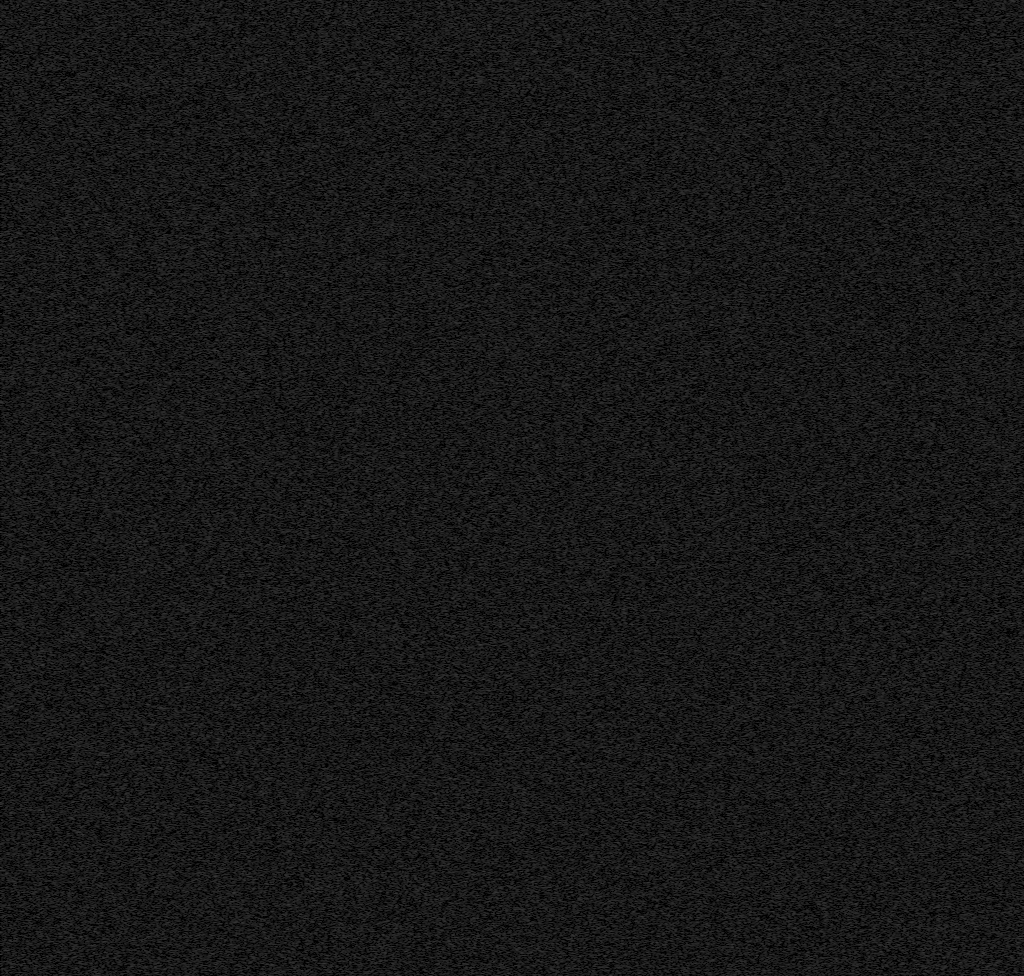wv_am: (550, 0, 565, 596), (132, 0, 139, 976), (555, 646, 561, 976), (555, 620, 561, 645), (555, 598, 561, 619)
wv_cw: (734, 0, 756, 976), (99, 0, 118, 976), (677, 0, 696, 976), (903, 0, 913, 976)
wv_lsb: (674, 567, 680, 726), (674, 191, 679, 374), (674, 6, 679, 97), (674, 915, 679, 976), (674, 378, 679, 421), (675, 466, 679, 518), (675, 727, 679, 768), (675, 769, 679, 781), (675, 447, 679, 459), (675, 151, 679, 162), (675, 541, 679, 551), (675, 519, 679, 529), (675, 436, 679, 446), (676, 792, 679, 803), (675, 532, 679, 540), (675, 142, 679, 150), (675, 826, 679, 833), (675, 427, 679, 434), (675, 182, 679, 189), (675, 838, 679, 843), (675, 782, 679, 787), (675, 559, 679, 564), (675, 553, 679, 558), (675, 460, 679, 465), (675, 167, 679, 172), (675, 846, 679, 850), (675, 422, 679, 426), (676, 863, 679, 868), (676, 173, 679, 178), (675, 820, 679, 823), (676, 873, 679, 876), (676, 788, 679, 791), (675, 134, 678, 137)
wv_usb: (959, 358, 967, 976), (960, 6, 967, 284), (958, 285, 966, 335)
wv_wbfm: (307, 31, 475, 472), (324, 645, 467, 878), (315, 482, 476, 586), (319, 878, 438, 937), (309, 936, 471, 976), (343, 603, 445, 645), (357, 6, 434, 31), (364, 586, 429, 598), (339, 472, 416, 481), (356, 598, 433, 603), (372, 0, 417, 6), (419, 587, 441, 595), (420, 23, 437, 31), (321, 474, 342, 480), (412, 0, 433, 6), (425, 901, 442, 906), (426, 911, 442, 916), (375, 481, 393, 485), (306, 370, 323, 374), (348, 593, 369, 596), (353, 2, 366, 6), (344, 23, 353, 28), (353, 588, 364, 592), (313, 494, 326, 497), (423, 19, 435, 22), (345, 19, 356, 22), (334, 3, 345, 6), (426, 6, 436, 9), (341, 603, 350, 606), (435, 926, 443, 929), (469, 232, 476, 235), (307, 558, 313, 561), (484, 552, 489, 555), (474, 381, 479, 384), (474, 191, 479, 194)
